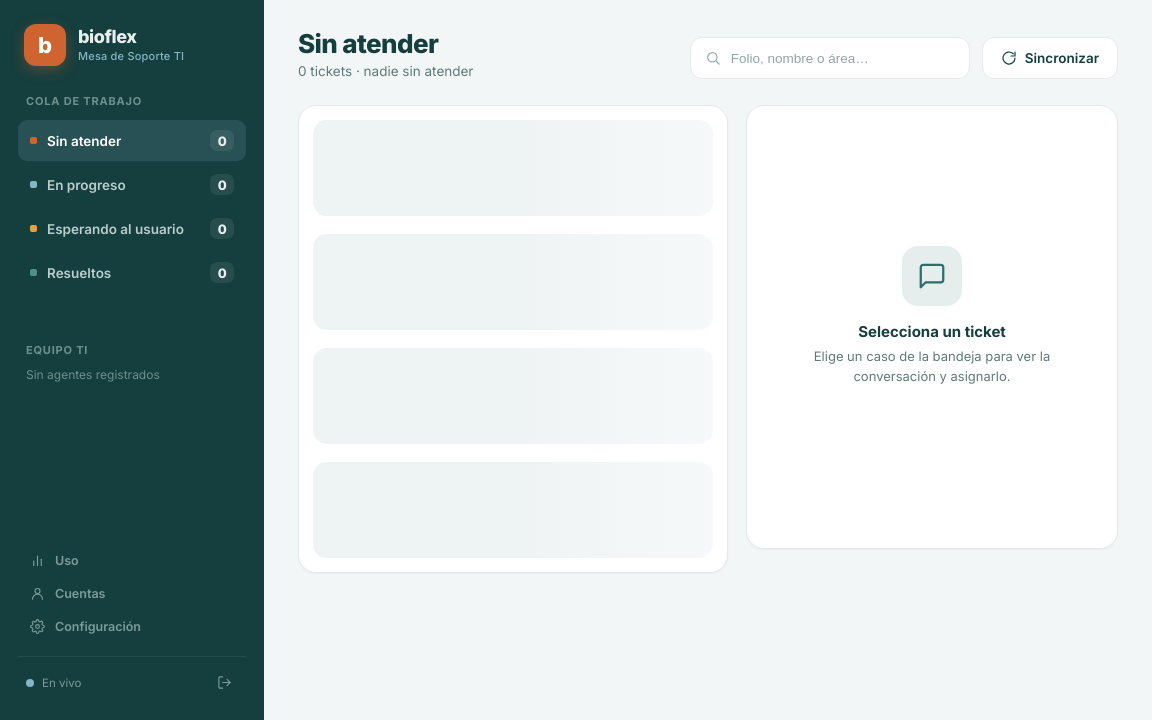
Test: lista las cuentas activas; las desactivadas se ven con el filtro
Step 1. Click the button "Cuentas" → [132, 594], box [18,578,246,609]
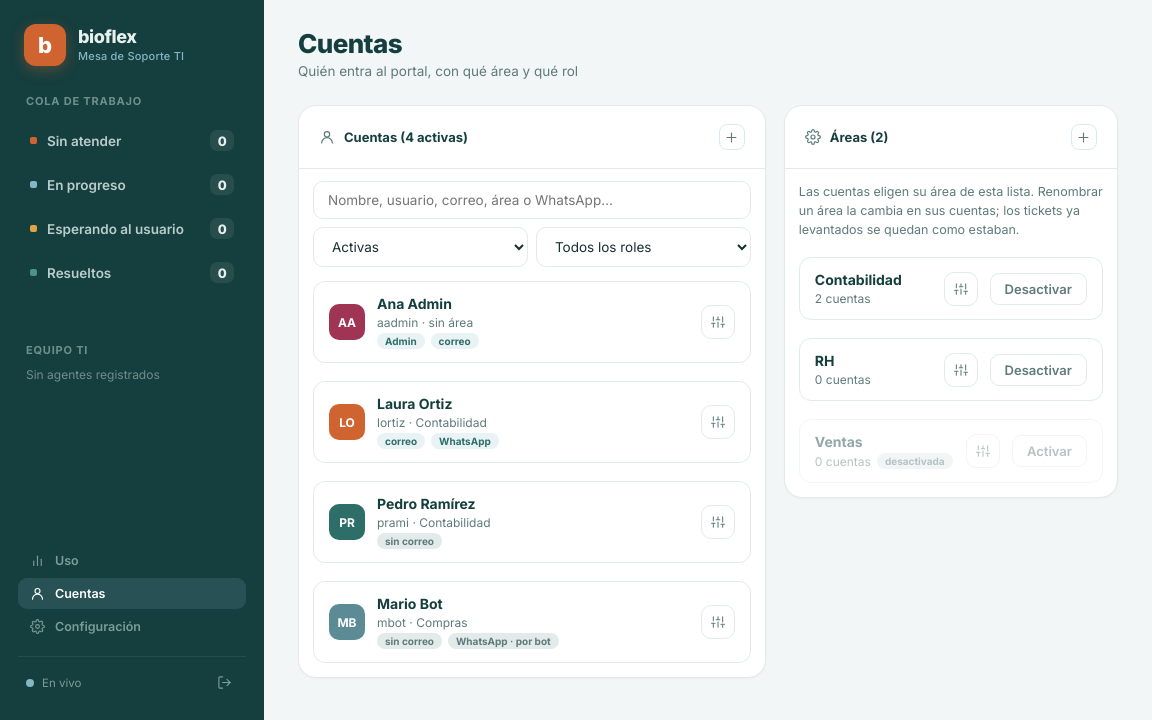
Result: the element with class "bf-cfg-row" that starts with "Laura Ortiz" is shown at [313,381,751,463]
Result: the element with class "bf-cfg-row" shows "sin correo" at [385,535,434,547]
Result: the element with class "bf-cfg-row" shows "WhatsApp" at [439,435,491,447]
Step 2. Select "Desactivadas" in the dropdown named "Estado" → [420, 247], box [313,227,528,267]
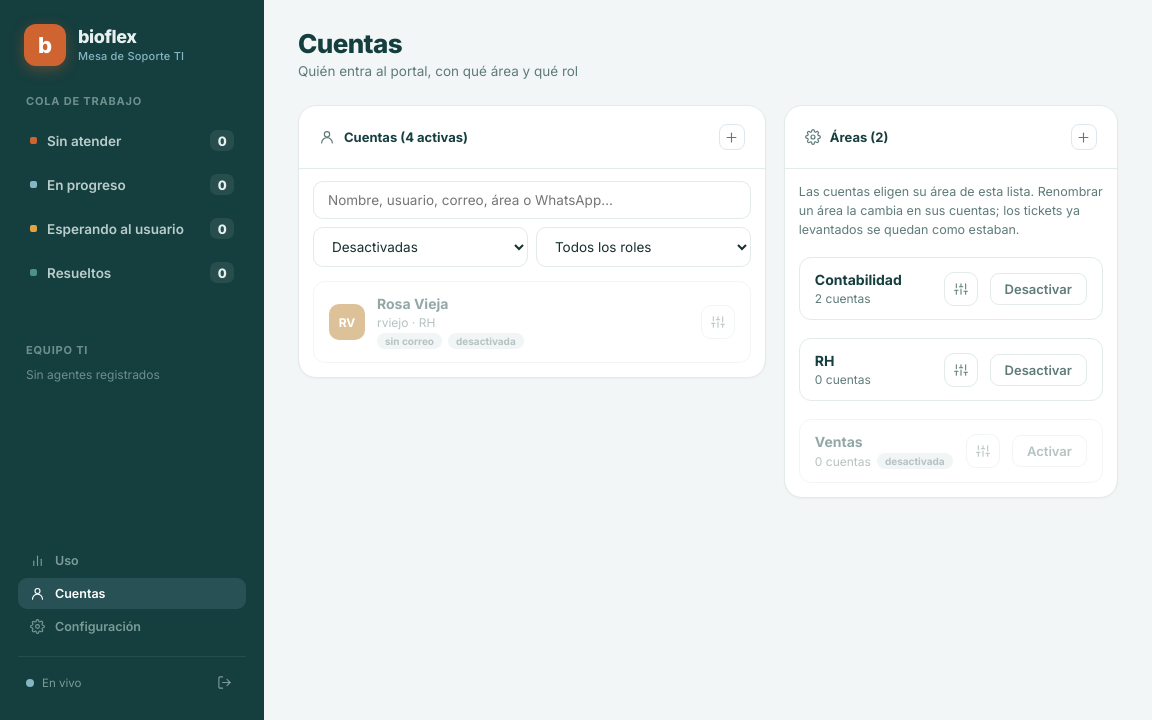
Result: the element with class "bf-cfg-row" shows "desactivada" at [456,335,516,347]
